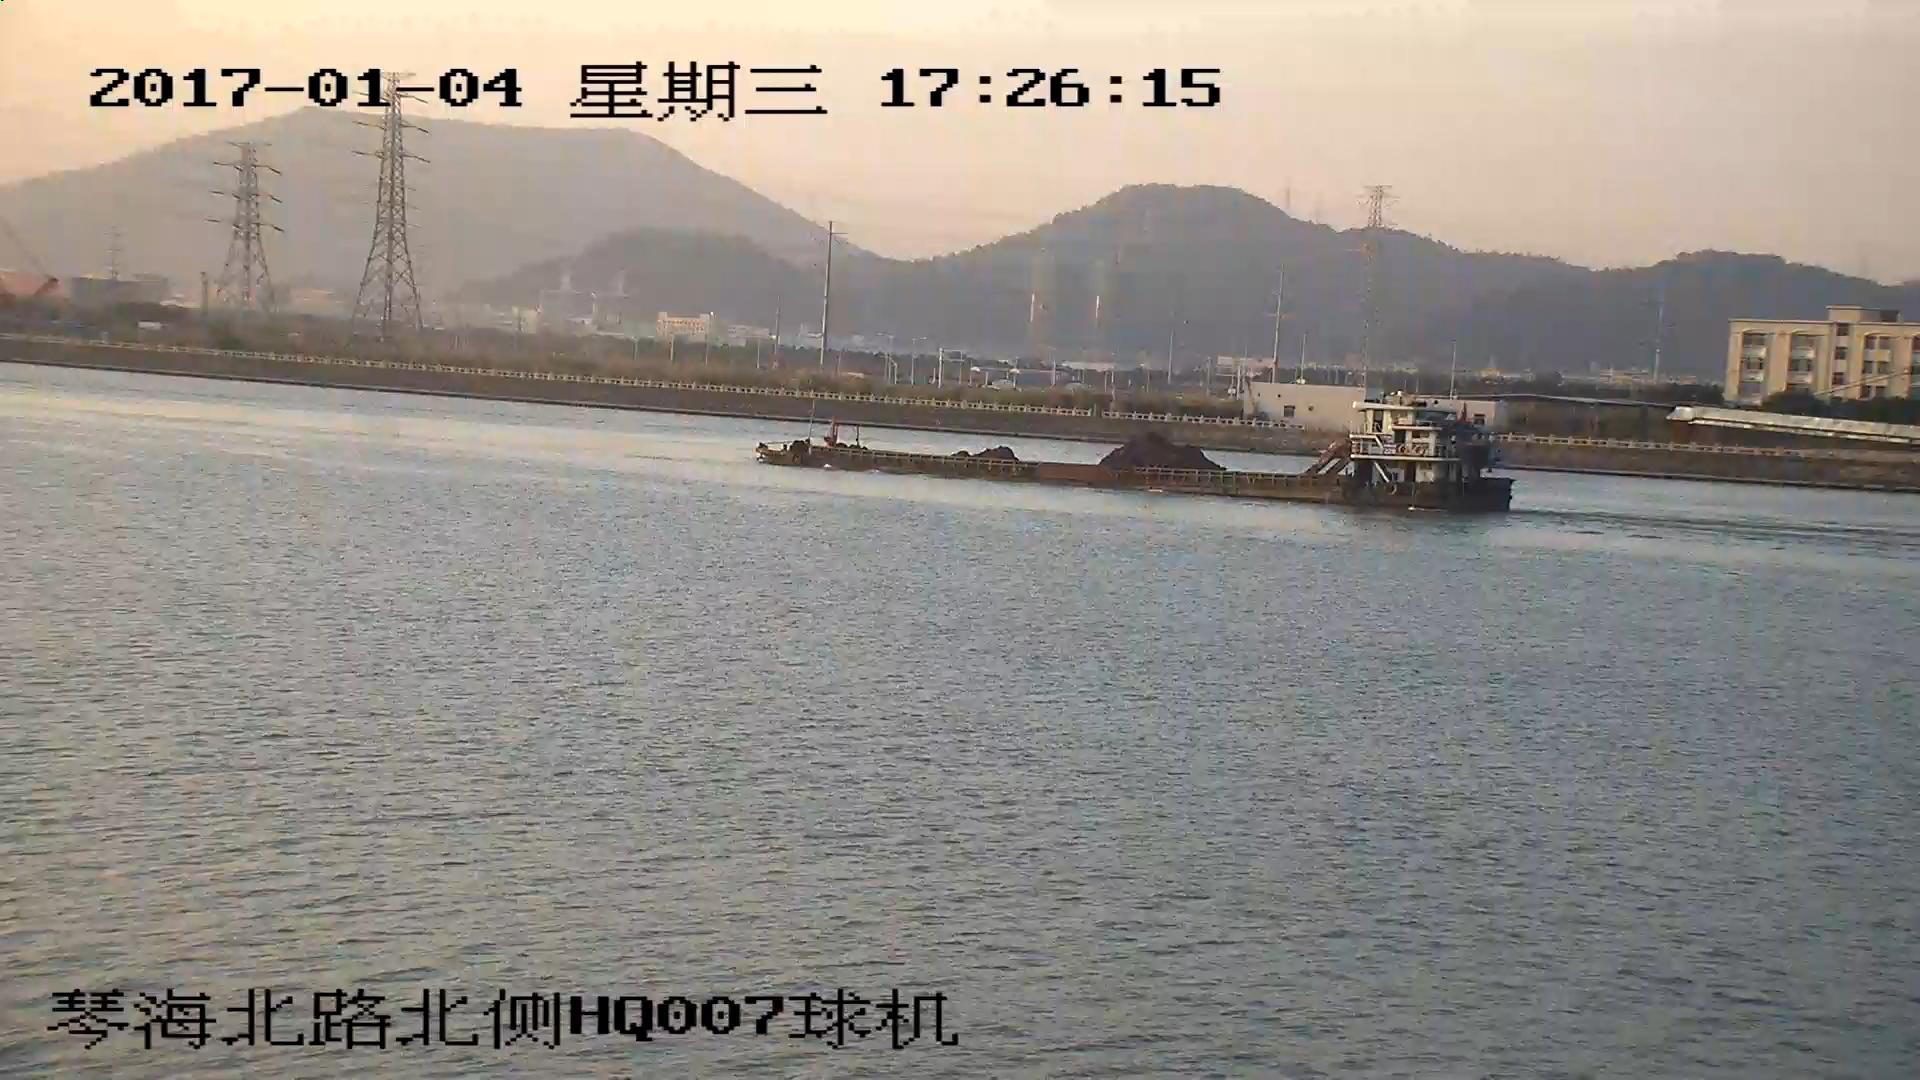ore carrier: (758, 403, 1512, 512)
